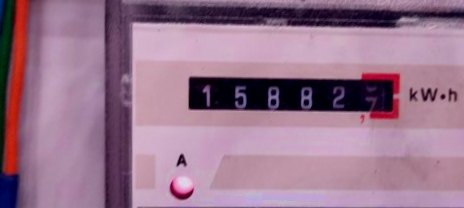1: (197, 80, 212, 109)
2: (328, 83, 345, 111)
5: (229, 82, 248, 110)
7: (360, 94, 377, 111)
8: (262, 83, 279, 111), (296, 83, 312, 111)
screen: (172, 60, 408, 128)
